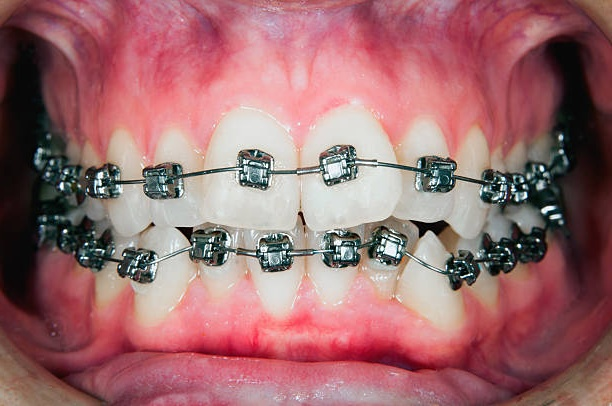Gingivitis: (352, 1, 435, 66), (156, 14, 228, 85), (71, 7, 136, 83), (188, 331, 277, 358), (425, 336, 488, 369), (354, 335, 421, 366)
